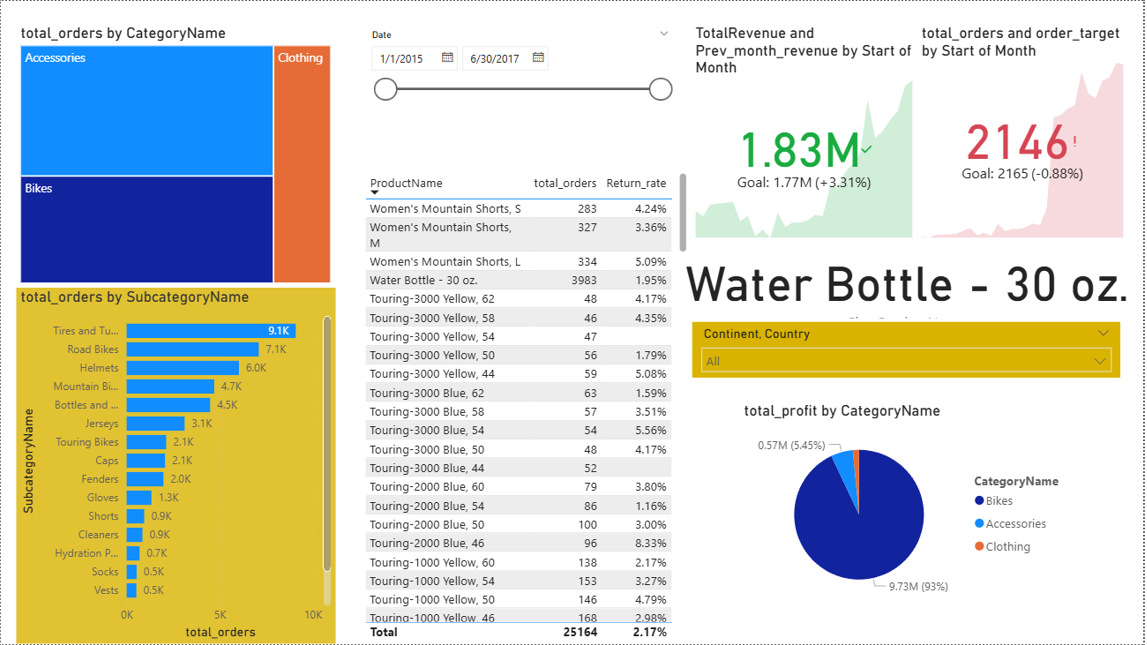

The page's visual inventory and layout, read from the dashboard file:
{"tool":"powerbi","page":{"name":"Summary Report","canvas":[1280,720],"ordinal":2},"visuals":[{"type":"treemap","fields":{"Group":["AW_Categories_lookup.CategoryName","AW_Subcategories_lookup.SubcategoryName","AW_Products_lookup.ProductName"],"Values":["AW_Sales_lookup.total_orders"]},"box":[17.1,25.6,357.3,295.1],"z":0},{"type":"barChart","fields":{"Category":["AW_Subcategories_lookup.SubcategoryName"],"Y":["AW_Sales_lookup.total_orders"]},"box":[17.1,320.7,357.3,398.8],"z":1000},{"type":"tableEx","fields":{"Values":["AW_Products_lookup.ProductName","AW_Sales_lookup.total_orders","AW_Returns_lookup.Return_rate"]},"box":[402.3,187.1,370.5,533.2],"z":2000},{"type":"slicer","fields":{"Values":["AW_Calendar_lookup.Date"]},"box":[402.5,26.2,357.5,121.2],"z":3000},{"type":"card","fields":{"Values":["Min(AW_Products_lookup.ProductName)"]},"box":[760.6,281.3,507.5,78.3],"z":4000},{"type":"kpi","fields":{"Indicator":["AW_Sales_lookup.TotalRevenue"],"TrendLine":["AW_Calendar_lookup.Start of Month"],"Goal":["AW_Sales_lookup.Prev_month_revenue"]},"box":[772.8,25.7,253.1,244.6],"z":5000},{"type":"kpi","fields":{"Indicator":["AW_Sales_lookup.total_orders"],"TrendLine":["AW_Calendar_lookup.Start of Month"],"Goal":["AW_Sales_lookup.order_target"]},"box":[1026,25.7,236,244.6],"z":6000},{"type":"slicer","fields":{"Values":["AW_Territories_lookup.Continent Hierarchy.Continent","AW_Territories_lookup.Continent Hierarchy.Country"]},"box":[774.1,359.5,479.4,62.4],"z":7000},{"type":"pieChart","fields":{"Category":["AW_Categories_lookup.CategoryName"],"Y":["AW_Sales_lookup.total_profit"]},"box":[827.5,448.8,378.8,235],"z":8000}]}

Visuals, with their boxes in screenshot pixels (x1, y1, x2, y2), scaled from the page's 1280x720 canvas onto the 1147x645 screenshot:
treemap - AW_Categories_lookup.CategoryName x AW_Subcategories_lookup.SubcategoryName: crop(15, 23, 335, 287)
barChart - AW_Subcategories_lookup.SubcategoryName x AW_Sales_lookup.total_orders: crop(15, 287, 335, 644)
tableEx - AW_Products_lookup.ProductName x AW_Sales_lookup.total_orders: crop(360, 168, 693, 644)
slicer - AW_Calendar_lookup.Date: crop(361, 23, 681, 132)
card - Min(AW_Products_lookup.ProductName): crop(682, 252, 1136, 322)
kpi - AW_Sales_lookup.TotalRevenue x AW_Calendar_lookup.Start of Month: crop(693, 23, 919, 242)
kpi - AW_Sales_lookup.total_orders x AW_Calendar_lookup.Start of Month: crop(919, 23, 1131, 242)
slicer - AW_Territories_lookup.Continent Hierarchy.Continent x AW_Territories_lookup.Continent Hierarchy.Country: crop(694, 322, 1123, 378)
pieChart - AW_Categories_lookup.CategoryName x AW_Sales_lookup.total_profit: crop(742, 402, 1081, 613)
